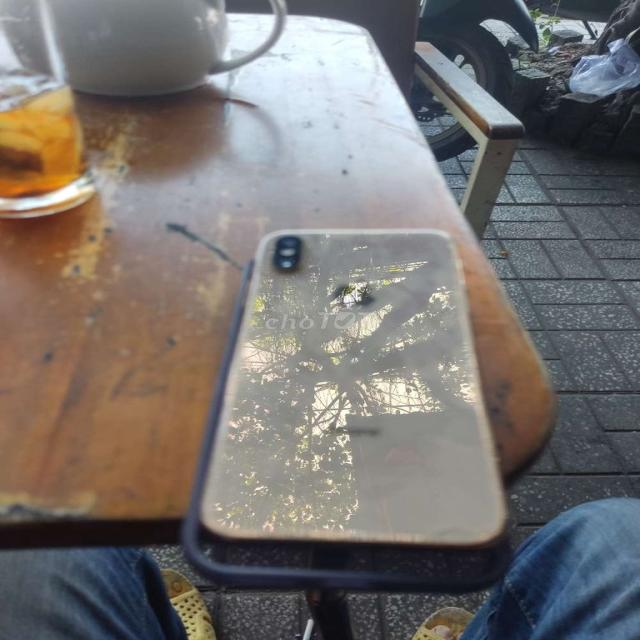gen_x_xs: (196, 229, 505, 547)
